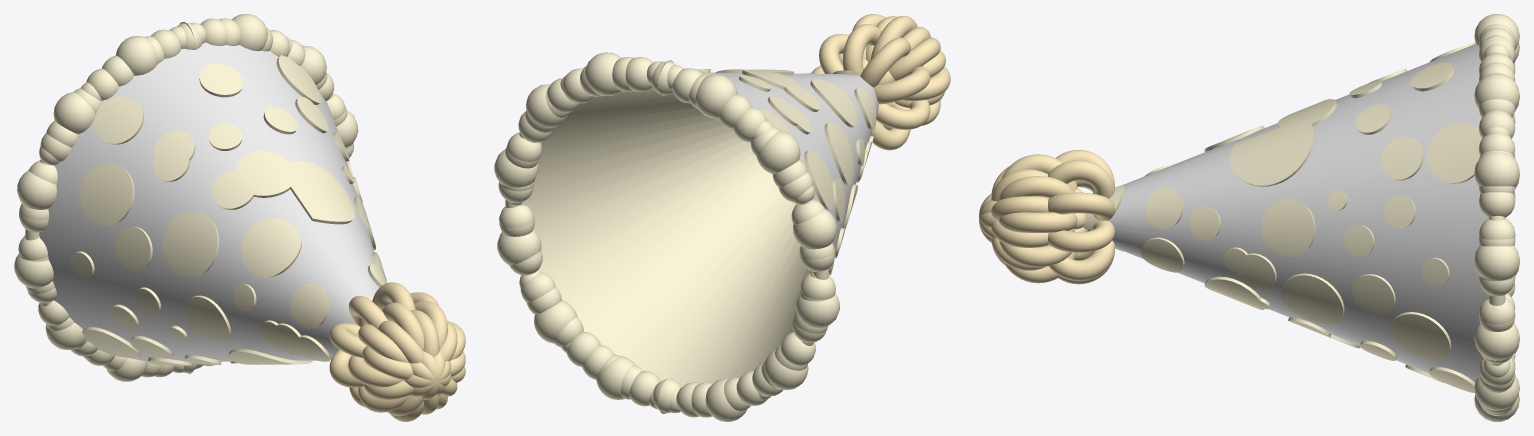
The model's file is Party.glb.
3 renders of one model, left to right at view 1: azimuth 30°, elevation 25°; view 2: azimuth 150°, elevation 25°; view 3: azimuth 270°, elevation 25°, orthographic. The views are drawn at different scales.
Bounding box in the file's own units: 22.38 × 22.15 × 30.08.
